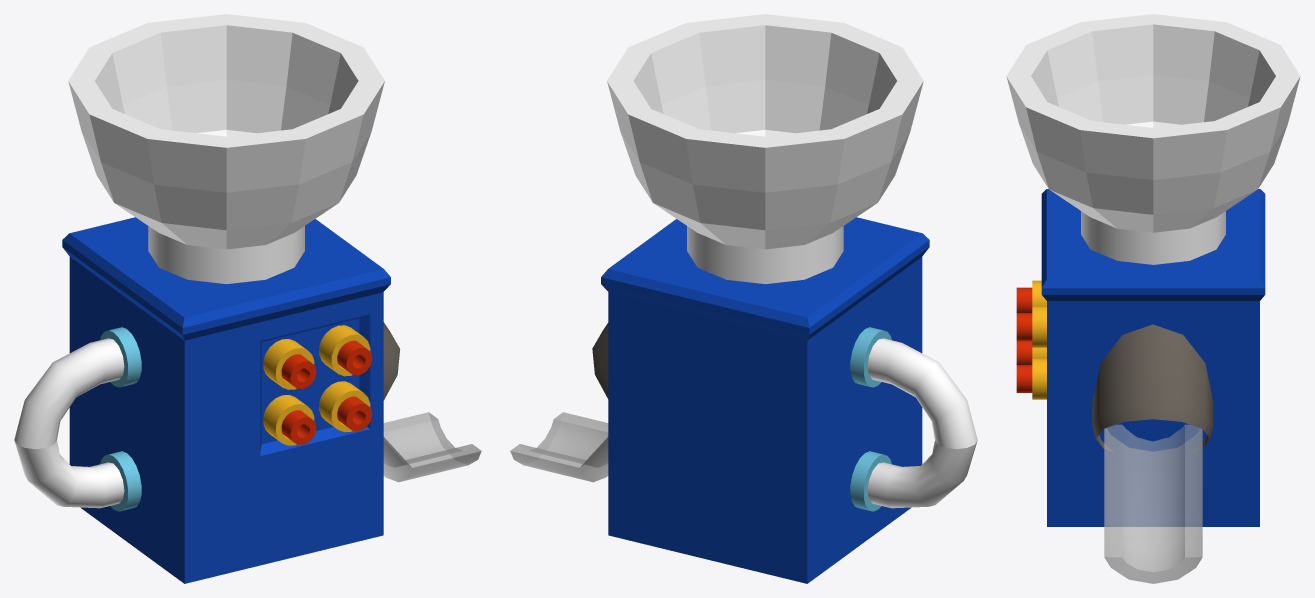
3 views of the same model, side by side, from view 1: azimuth 30°, elevation 25°; view 2: azimuth 150°, elevation 25°; view 3: azimuth 270°, elevation 25° (orthographic). The views are drawn at different scales.
Parts seen in each view (by area): view 1: Box001, Cylinder001, Tube012, Tube009, Tube013, Tube010, Tube011, Tube003, Tube002, Tube001, Tube004, Tube006 (+4 smaller); view 2: Box001, Cylinder001, Tube012, Tube009, Tube013, Tube010, Tube011, Cylinder003; view 3: Cylinder001, Box001, Tube009, Cylinder003, Tube002, Tube003, Tube005, Tube008, Tube006, Tube007.
Boxes of the visible parts, left/top/right/bottom form: Box001: left=62, top=217, right=390, bottom=583; Cylinder001: left=68, top=14, right=384, bottom=284; Tube012: left=14, top=338, right=124, bottom=449; Tube009: left=383, top=412, right=481, bottom=482; Tube013: left=14, top=440, right=124, bottom=508; Tube010: left=100, top=327, right=141, bottom=387; Tube011: left=100, top=451, right=141, bottom=511; Tube003: left=319, top=325, right=370, bottom=376; Tube002: left=319, top=381, right=370, bottom=432; Tube001: left=263, top=395, right=314, bottom=445; Tube004: left=263, top=339, right=314, bottom=389; Tube006: left=281, top=354, right=316, bottom=388; Box001: left=601, top=217, right=929, bottom=583; Cylinder001: left=607, top=14, right=923, bottom=284; Tube012: left=867, top=338, right=977, bottom=449; Tube009: left=510, top=412, right=608, bottom=482; Tube013: left=867, top=440, right=977, bottom=508; Tube010: left=850, top=327, right=891, bottom=387; Tube011: left=850, top=451, right=891, bottom=511; Cylinder003: left=592, top=323, right=608, bottom=398; Cylinder001: left=1006, top=14, right=1300, bottom=264; Box001: left=1041, top=189, right=1265, bottom=526; Tube009: left=1104, top=424, right=1202, bottom=583; Cylinder003: left=1092, top=324, right=1213, bottom=451; Tube002: left=1032, top=358, right=1046, bottom=399; Tube003: left=1032, top=306, right=1046, bottom=347; Tube005: left=1016, top=313, right=1032, bottom=340; Tube008: left=1016, top=365, right=1032, bottom=392; Tube006: left=1016, top=287, right=1032, bottom=312; Tube007: left=1016, top=341, right=1032, bottom=364.
Size of the model in its own units: 441 by 420 by 276.
